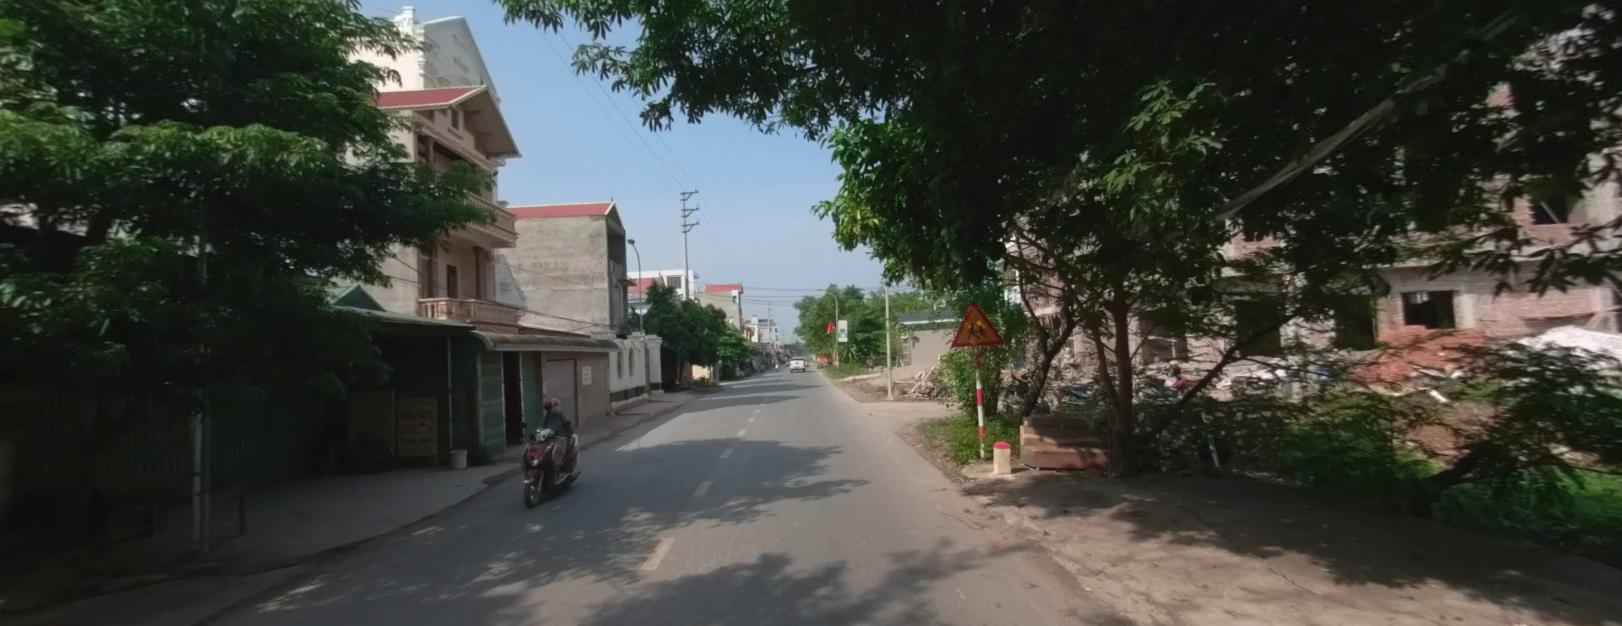Nguy hiem: (949, 300, 1005, 346), (949, 301, 1005, 345), (952, 301, 1004, 344)
